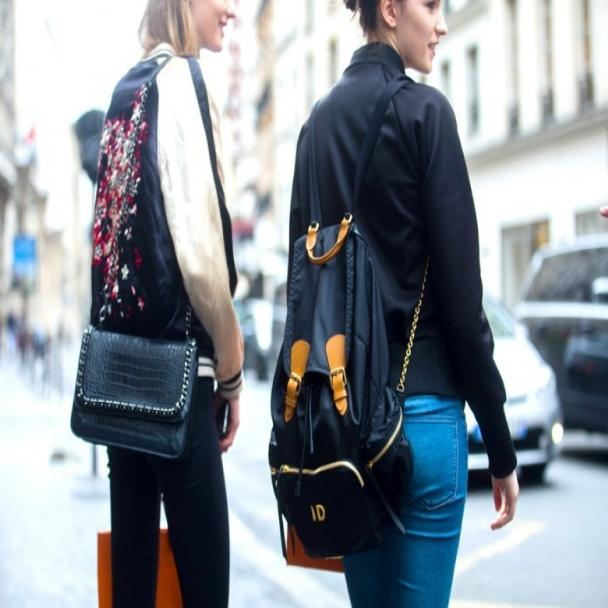Tas: (266, 221, 416, 553), (64, 328, 213, 465)
